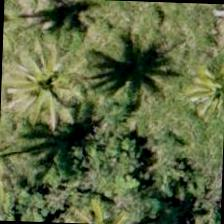Kelapa_Sawit: (11, 27, 104, 120), (174, 39, 223, 133)
